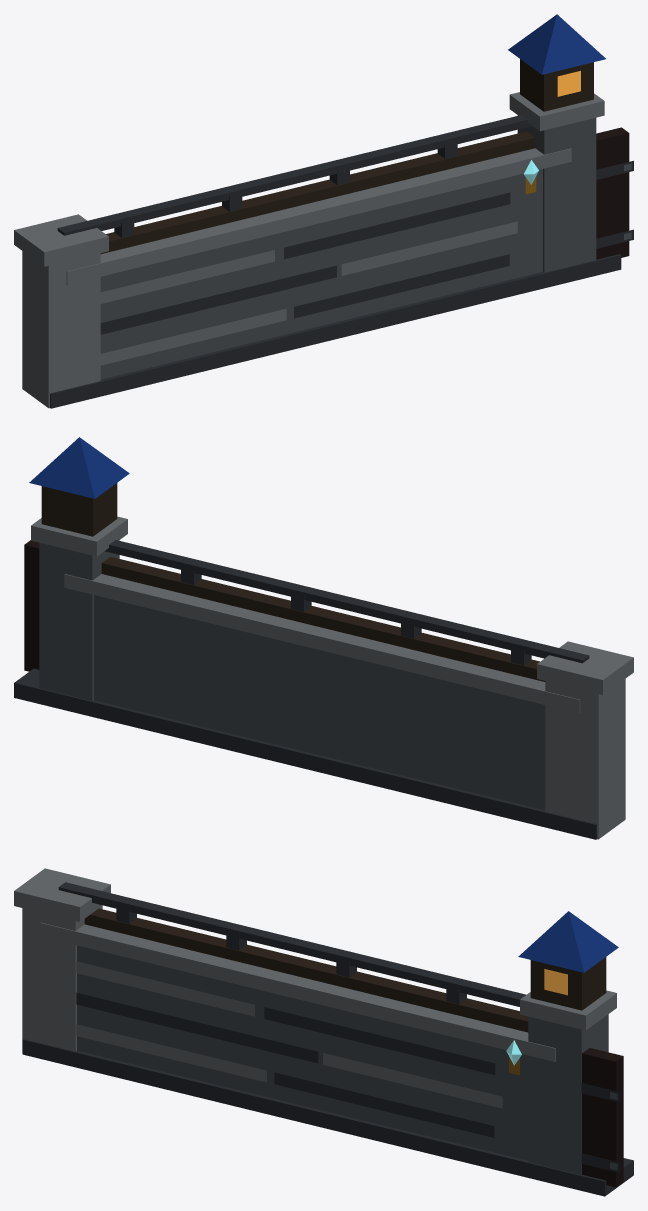
File: eastbrook_wall_wing.glb
3 views of the same model, one above another, from view 1: azimuth 30°, elevation 25°; view 2: azimuth 150°, elevation 25°; view 3: azimuth 330°, elevation 25° (orthographic). The views are drawn at different scales.
Parts seen in each view (by area): view 1: EastbrookWallWing_TownOpaque, EastbrookWallWing_TownEmissive; view 2: EastbrookWallWing_TownOpaque; view 3: EastbrookWallWing_TownOpaque, EastbrookWallWing_TownEmissive.
Part boxes in pixels (x1,y1,x2,y2): EastbrookWallWing_TownOpaque: (14,14,633,408); EastbrookWallWing_TownEmissive: (523,71,580,184); EastbrookWallWing_TownOpaque: (14,437,633,839); EastbrookWallWing_TownOpaque: (14,868,633,1196); EastbrookWallWing_TownEmissive: (506,969,567,1065).
Bounding box in the file's own units: 6.5 × 2.7 × 0.6499.
